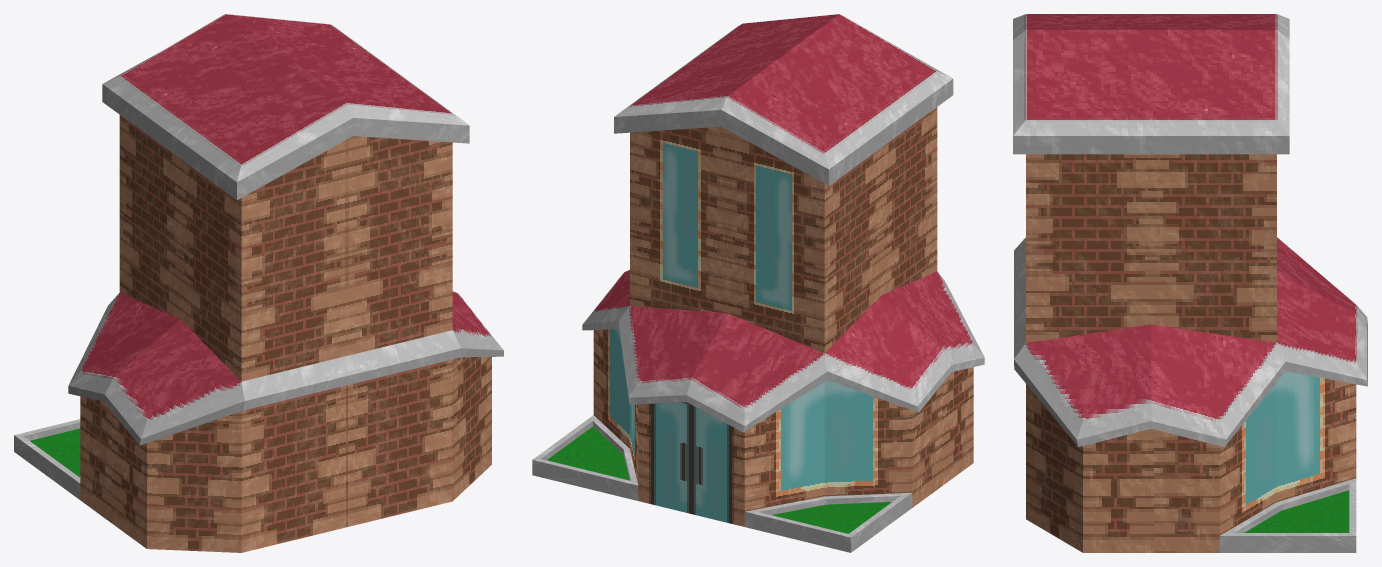
File: CoffeeShop.glb
The picture shows the model from 3 angles, left to right: view 1: azimuth 30°, elevation 25°; view 2: azimuth 150°, elevation 25°; view 3: azimuth 270°, elevation 25°; orthographic projection. The views are drawn at different scales.
Parts seen in each view (by area): view 1: CoffeeShop; view 2: CoffeeShop; view 3: CoffeeShop.
Part boxes in pixels (x1,y1,x2,y2): CoffeeShop: [14, 14, 503, 552]; CoffeeShop: [532, 14, 984, 552]; CoffeeShop: [1013, 14, 1367, 552].
Bounding box in the file's own units: 21.12 × 23.49 × 17.31.
1 material, 1 textured.
